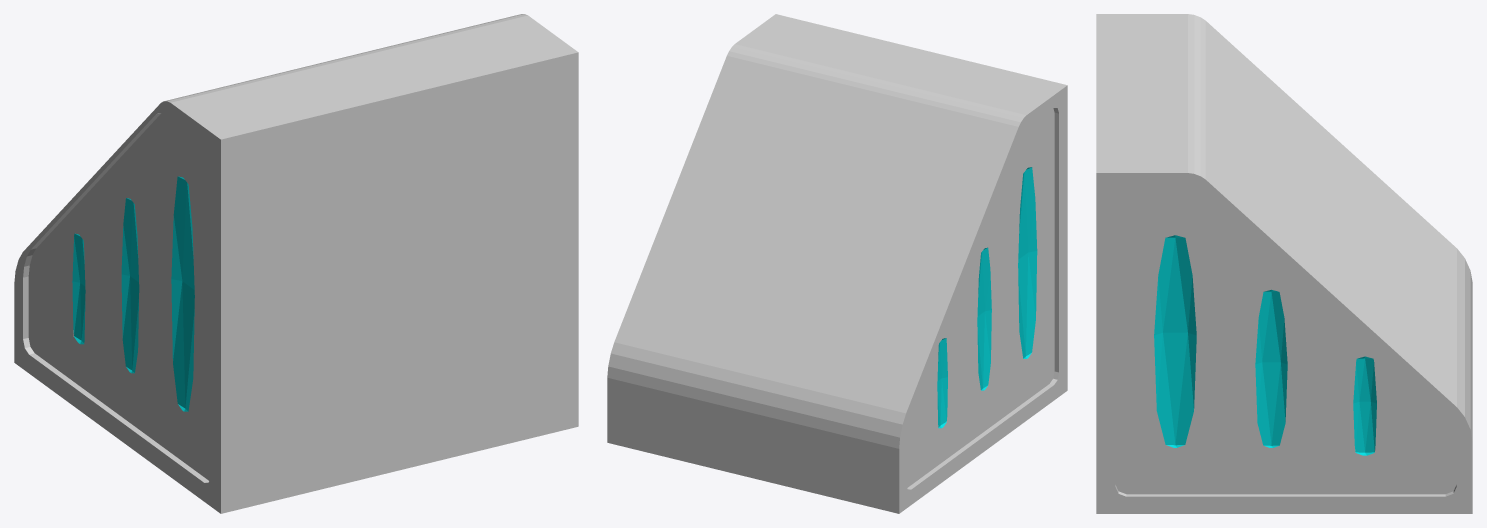
Rendered from angled building accent.fbx.
The picture shows the model from 3 angles, left to right: view 1: azimuth 30°, elevation 25°; view 2: azimuth 150°, elevation 25°; view 3: azimuth 270°, elevation 25°; orthographic projection. The views are drawn at different scales.
Parts seen in each view (by area): view 1: Cube; view 2: Cube; view 3: Cube.
Part boxes in pixels (x1,y1,x2,y2): Cube: (14,14,578,513); Cube: (607,14,1067,513); Cube: (1096,14,1472,513).
Bounding box in the file's own units: 762 × 762 × 762.
